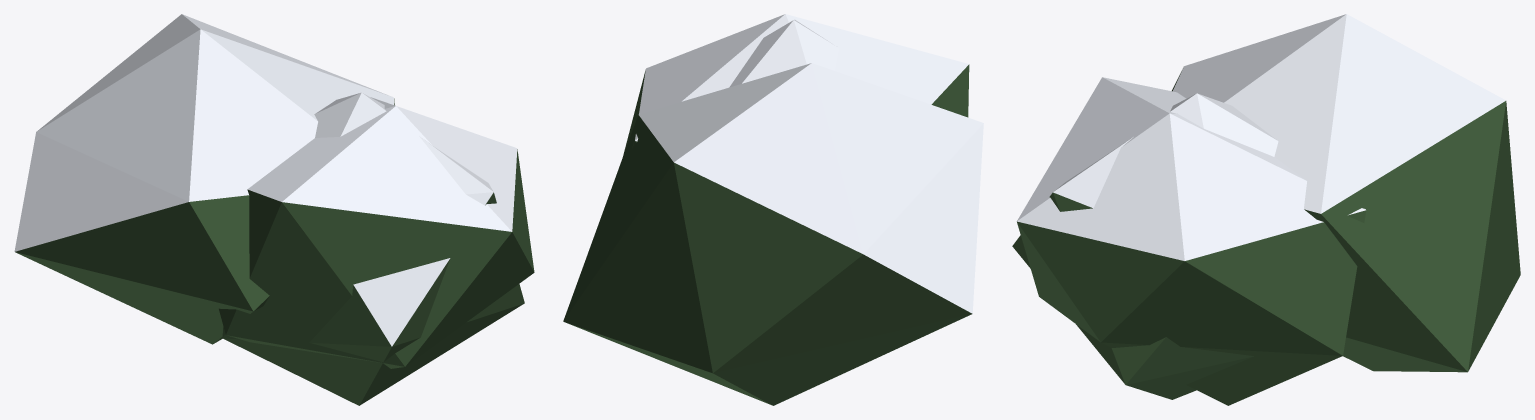
Rendered from shrub-1.glb.
The picture shows the model from 3 angles, left to right: view 1: azimuth 30°, elevation 25°; view 2: azimuth 150°, elevation 25°; view 3: azimuth 270°, elevation 25°; orthographic projection. The views are drawn at different scales.
Parts seen in each view (by area): view 1: shrub-1; view 2: shrub-1; view 3: shrub-1.
Boxes of the visible parts, bbox=[...] form: shrub-1: bbox=[14, 14, 534, 405]; shrub-1: bbox=[563, 14, 983, 405]; shrub-1: bbox=[1012, 14, 1520, 405].
Bounding box in the file's own units: 1.45 × 1.13 × 1.49.
